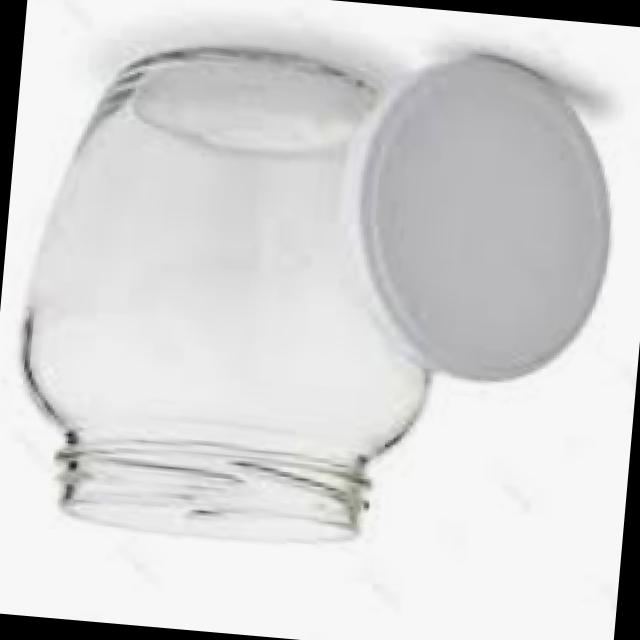ToplesKaca: (0, 16, 626, 577)
